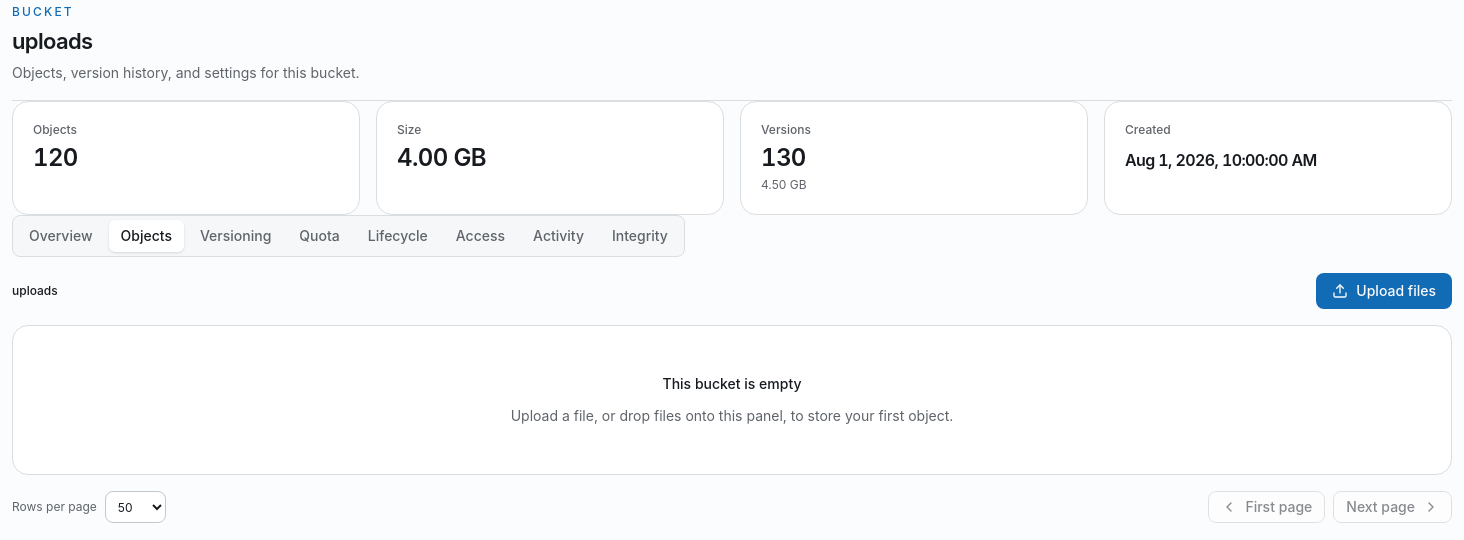
Test case: BucketDetail tabs › states the cost of verifying a whole bucket before running it
This screenshot has width=1464, height=540.
Step 1. Click the tab "Integrity" → (640, 236), box [600,220,680,252]
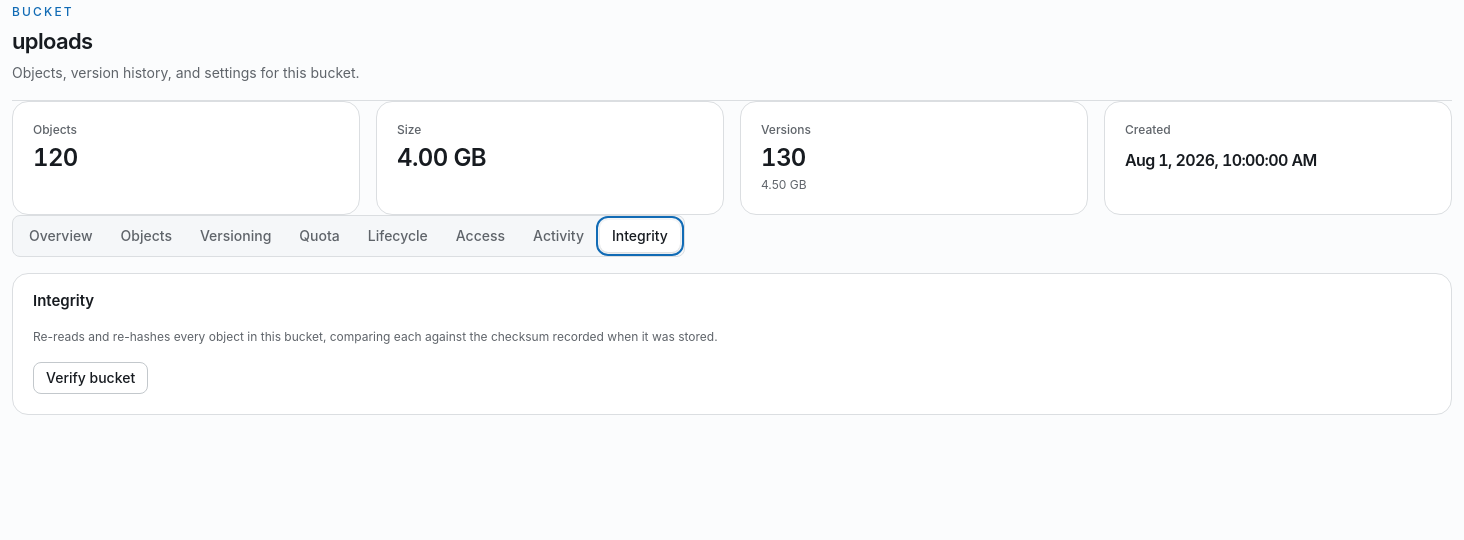
Now the text "Re-reads and re-hashes every object" is shown, box [33,329,718,344]
Now the button "Verify bucket" is shown, box [33,362,148,394]
